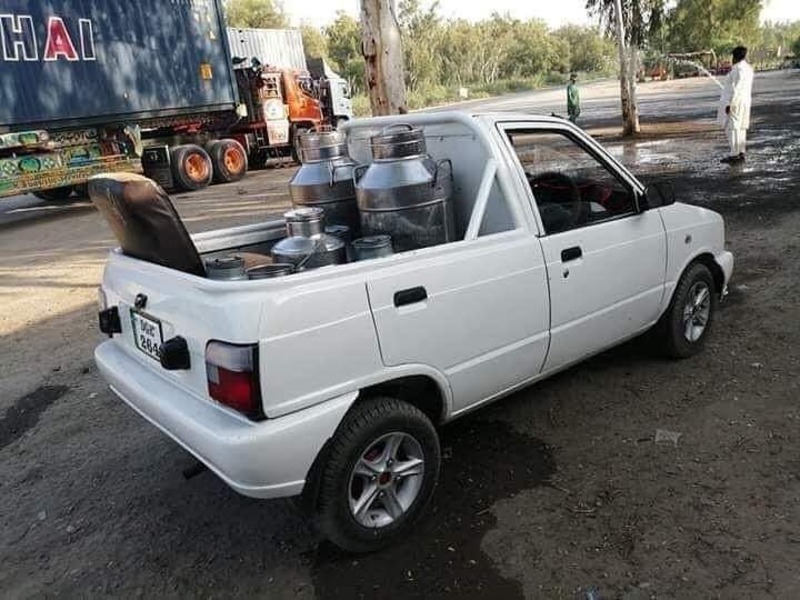License Plate: (126, 306, 169, 360)
